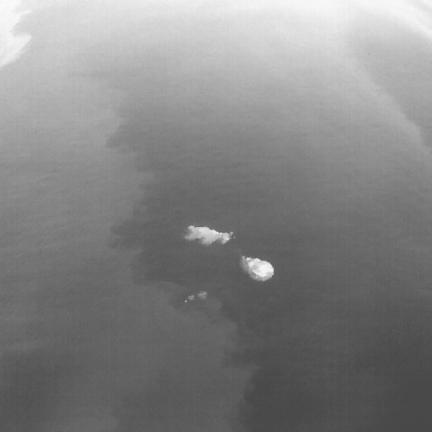flukeprints: (184, 225, 233, 246), (242, 256, 273, 281)
